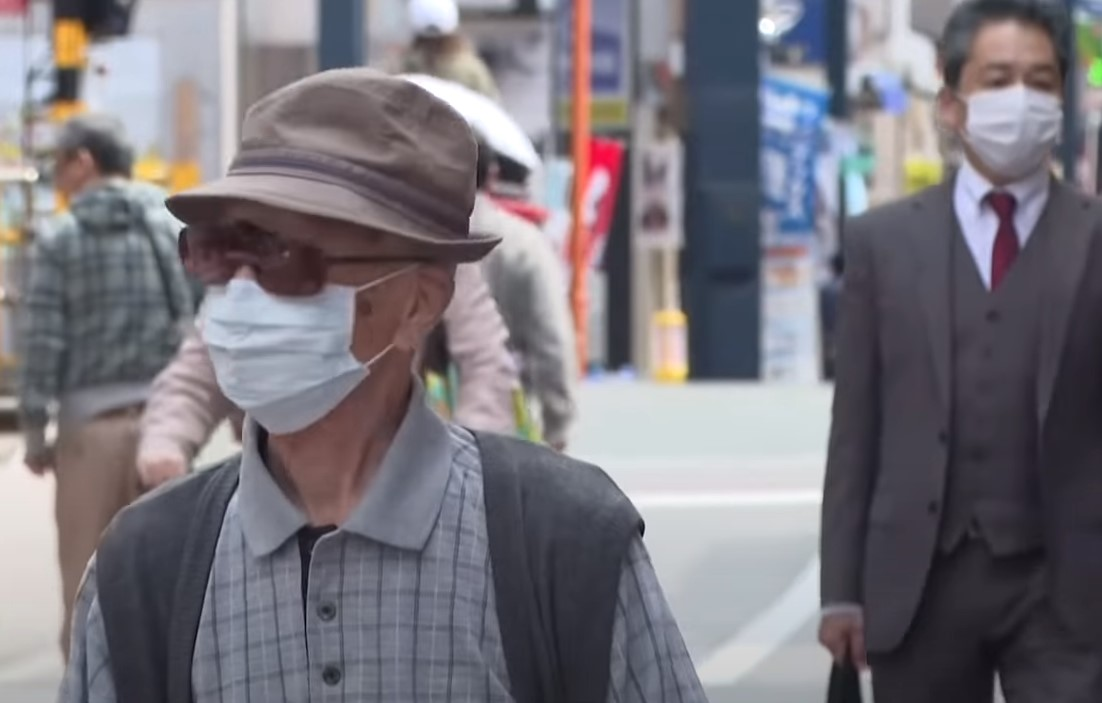face_with_mask: (169, 77, 496, 437), (941, 3, 1071, 182)
